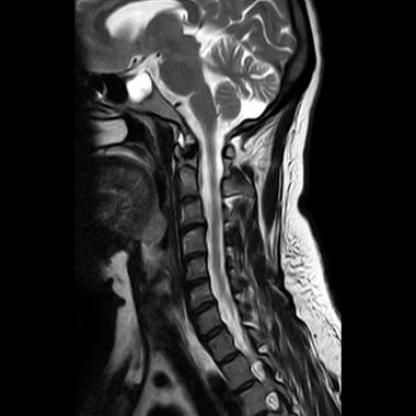Disc Bulgerotation: (181, 250, 208, 265), (177, 221, 205, 235)
